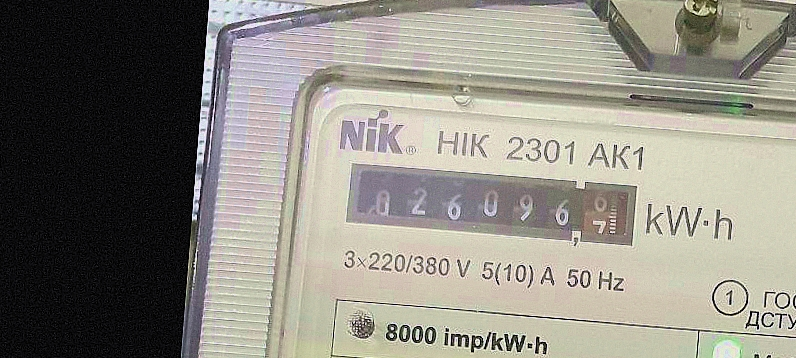0: (479, 185, 502, 221), (371, 184, 393, 218)
2: (407, 183, 431, 220)
6: (444, 188, 465, 224), (552, 194, 572, 228), (590, 187, 611, 215)
7: (589, 216, 608, 238)
9: (515, 191, 536, 224)
screen: (335, 153, 646, 258)
